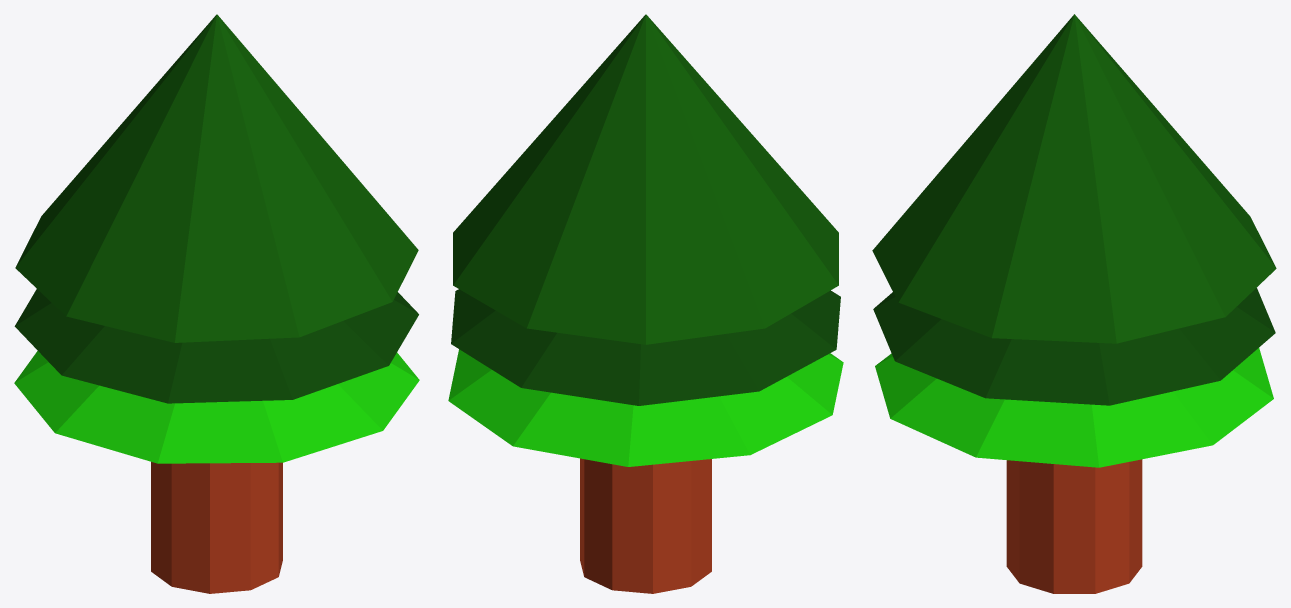
The model's file is tree.obj.
3 views of the same model, side by side, from view 1: azimuth 30°, elevation 25°; view 2: azimuth 150°, elevation 25°; view 3: azimuth 270°, elevation 25° (orthographic).
Parts seen in each view (by area): view 1: Cone.002, Cone.001, Cone, Cylinder; view 2: Cone.002, Cone.001, Cone, Cylinder; view 3: Cone.002, Cone, Cone.001, Cylinder.
Part boxes in pixels (x1,y1,x2,y2): Cone.002: (15, 14, 418, 342); Cone.001: (14, 289, 418, 403); Cone: (14, 351, 419, 463); Cylinder: (151, 462, 282, 593); Cone.002: (453, 14, 838, 344); Cone.001: (451, 289, 840, 405); Cone: (448, 349, 843, 466); Cylinder: (580, 458, 711, 593); Cone.002: (872, 14, 1276, 343); Cone: (875, 348, 1273, 467); Cone.001: (873, 287, 1275, 405); Cylinder: (1006, 459, 1142, 593).
Bounding box in the file's own units: 5.96 × 9 × 5.97.
